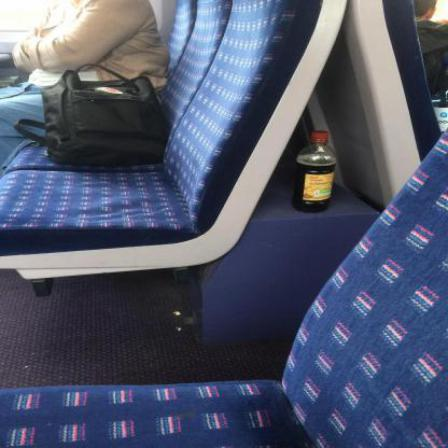Bottle: (293, 131, 339, 214), (433, 57, 448, 136)
Bottle cap: (312, 131, 330, 141)
